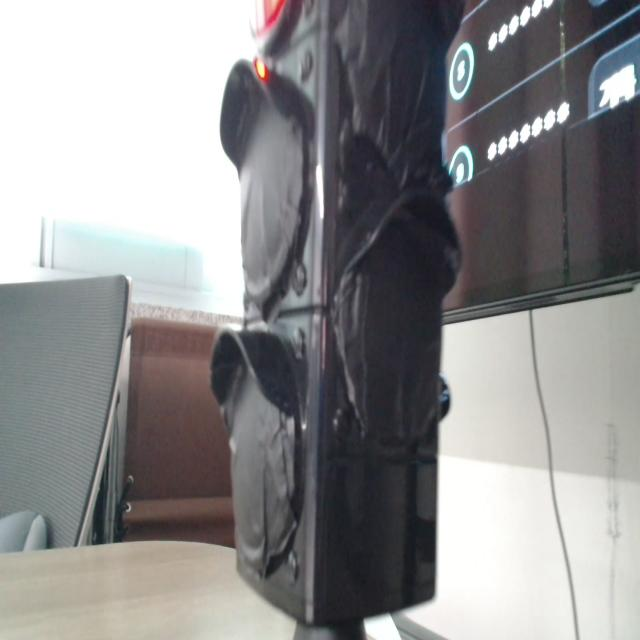red_light: (252, 0, 286, 35), (254, 59, 268, 81)
